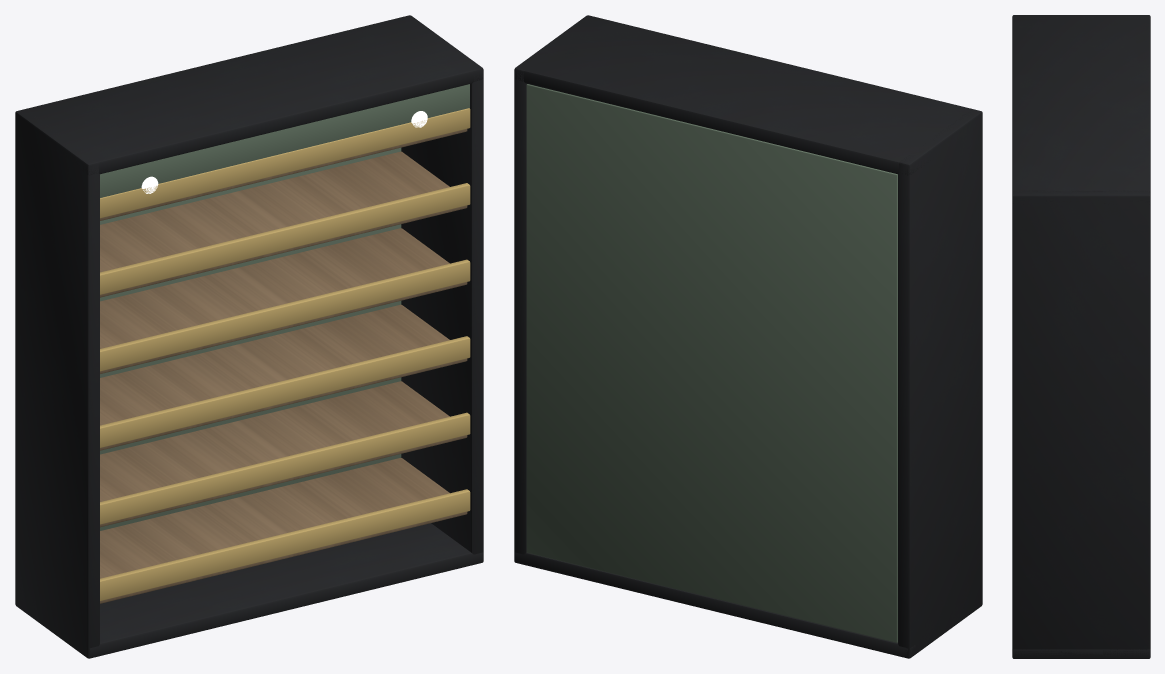
The model's file is pf_display_ball_display_t3.glb.
3 renders of one model, left to right at view 1: azimuth 30°, elevation 25°; view 2: azimuth 150°, elevation 25°; view 3: azimuth 270°, elevation 25°, orthographic. The views are drawn at different scales.
Parts seen in each view (by area): view 1: Case_Left, Case_Top, Case_Right, Case_Base, Shelf_05, Shelf_01, Shelf_03, Shelf_04, Shelf_02, Header_Back, Shelf_Lip_01, Shelf_Lip_02 (+6 smaller); view 2: Case_Back, Case_Left, Case_Top, Case_Right, Case_Base; view 3: Case_Right, Case_Top, Case_Base.
Boxes of the visible parts, x1,y1,x2,y2 form: Case_Left: (15,109,99,657); Case_Top: (15,15,483,175); Case_Right: (401,15,483,564); Case_Base: (16,523,483,658); Shelf_05: (100,151,467,297); Shelf_01: (100,458,467,603); Shelf_03: (100,304,467,450); Shelf_04: (100,228,467,373); Shelf_02: (100,381,467,527); Header_Back: (100,84,469,197); Shelf_Lip_01: (100,489,470,600); Shelf_Lip_02: (100,412,470,524); Case_Back: (526,84,897,642); Case_Left: (898,109,982,657); Case_Top: (515,15,981,175); Case_Right: (514,15,586,564); Case_Base: (514,552,915,658); Case_Right: (1012,190,1150,658); Case_Top: (1012,15,1150,204); Case_Base: (1012,649,1150,658).
Bounding box in the file's own units: 1.55 × 1.85 × 0.5.
Materials: 6 (2 with a texture image).
